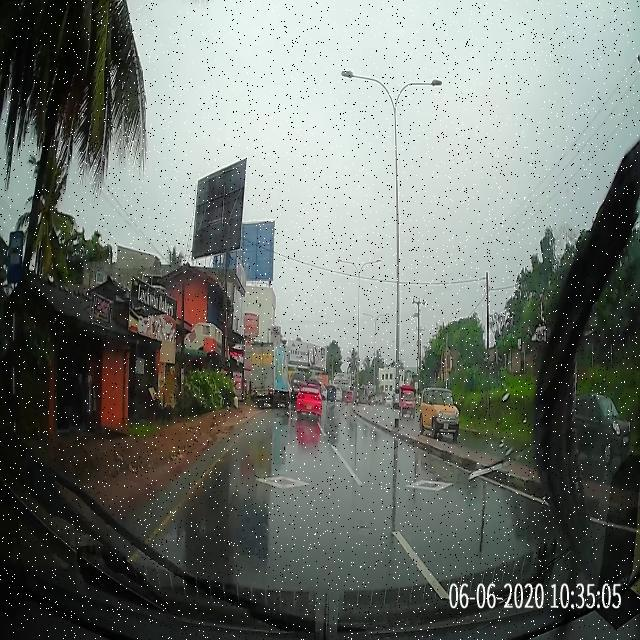diamond: (198, 467, 370, 496)
